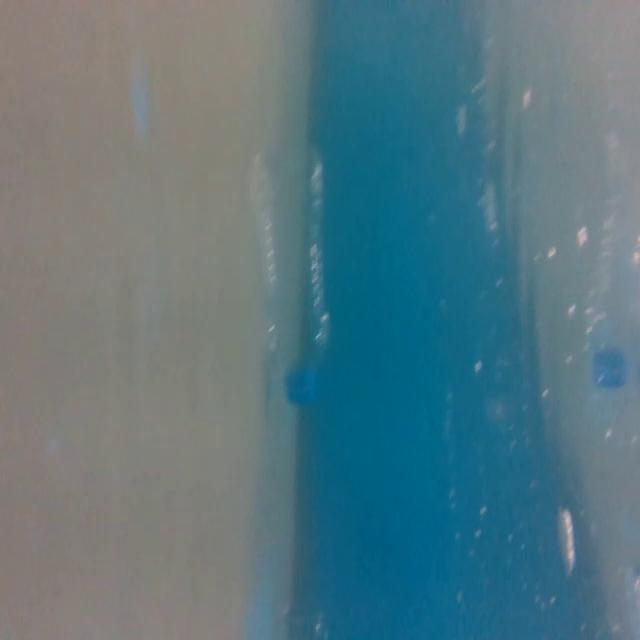plastic bottle: (239, 134, 338, 417)
